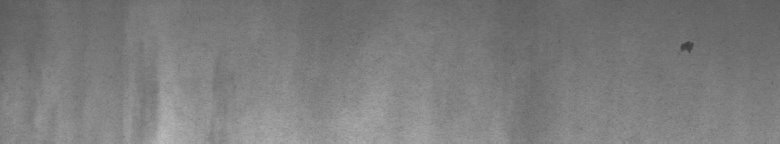fi: (676, 36, 697, 60)
